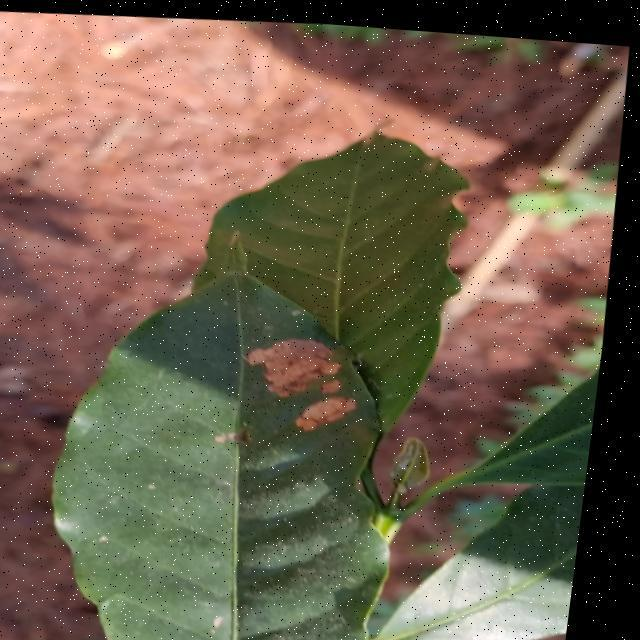leaves: (53, 229, 388, 640)
